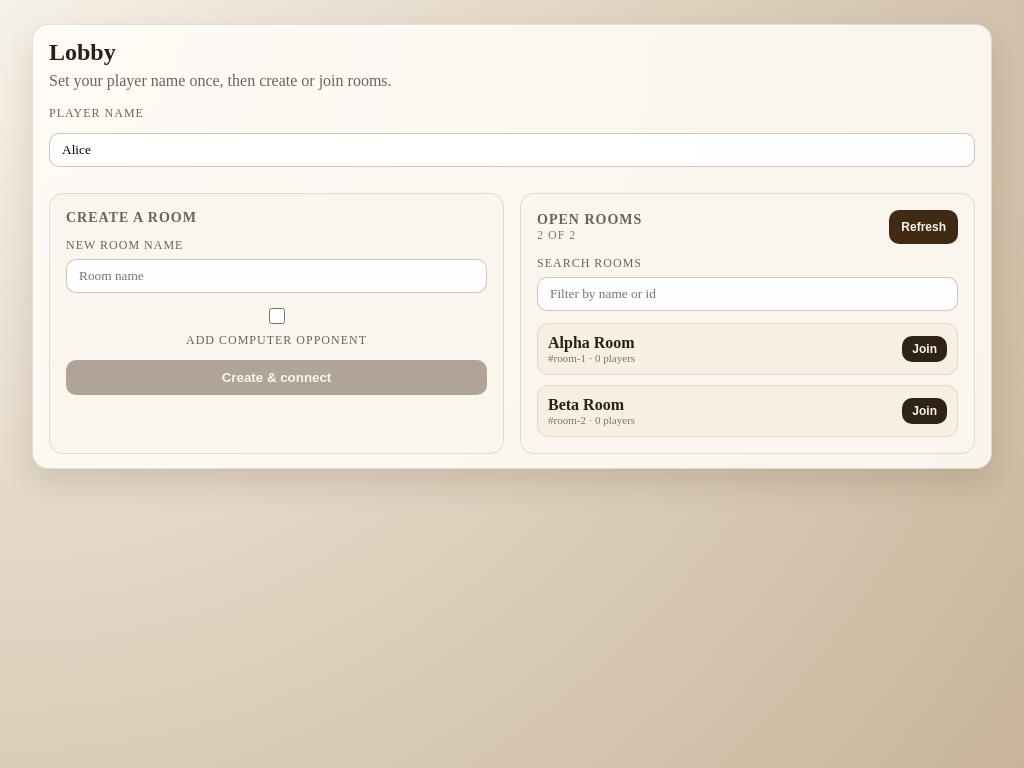
Test: Lobby › filters rooms by search query
The image size is (1024, 768).
Expected: the text "Alpha Room" is shown, x1=548 y1=334 x2=635 y2=351
Type "beta" into the field with placeholder "Filter by name or id".
click(748, 294); type("beta")  # box x1=537 y1=277 x2=958 y2=311
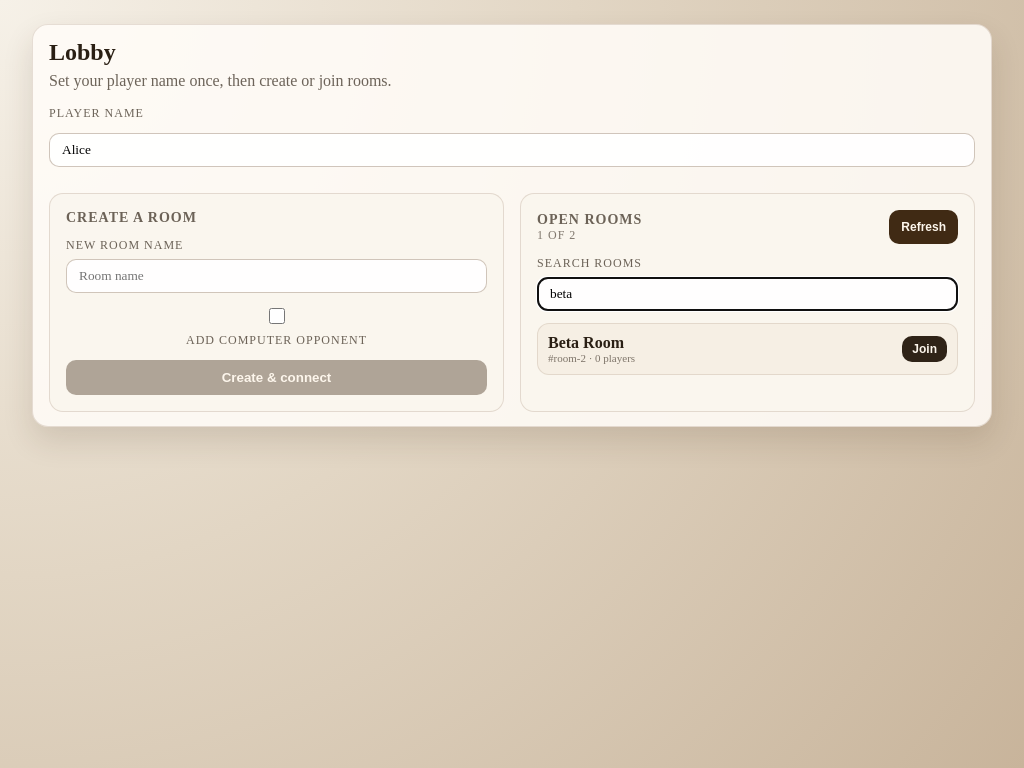
Expected: the text "Beta Room" is shown, x1=548 y1=334 x2=624 y2=351
Now the text "Alpha Room" is gone
